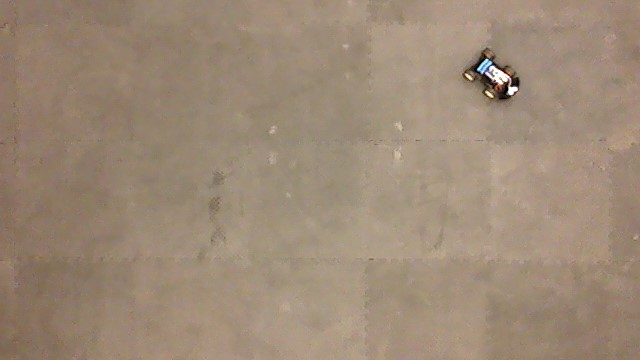Agent: (462, 47, 522, 103)
